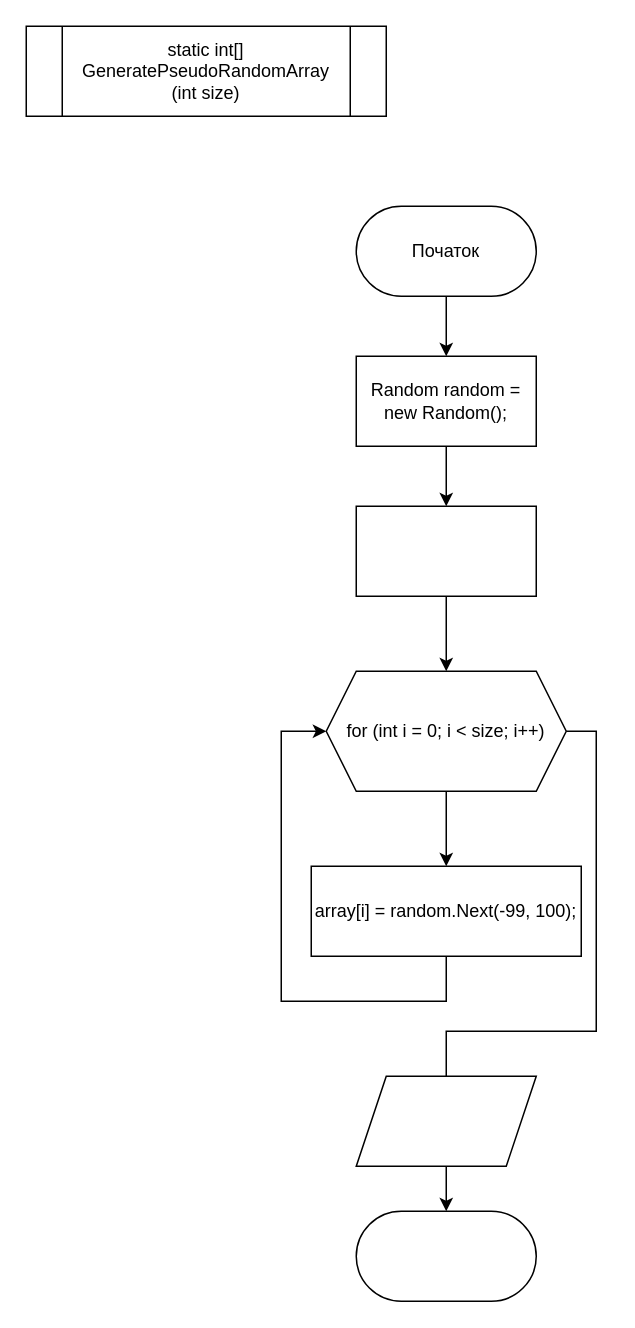
The diagram is 635 pixels wide and 1328 high, and some of its shapes have lost their labels. Here are the shapes that lost their labels. From the top down, the centre of each, then its label:
the point at 445,550: int[] array = new int[size];
the point at 445,1120: return array;
the point at 445,1255: Кінець
